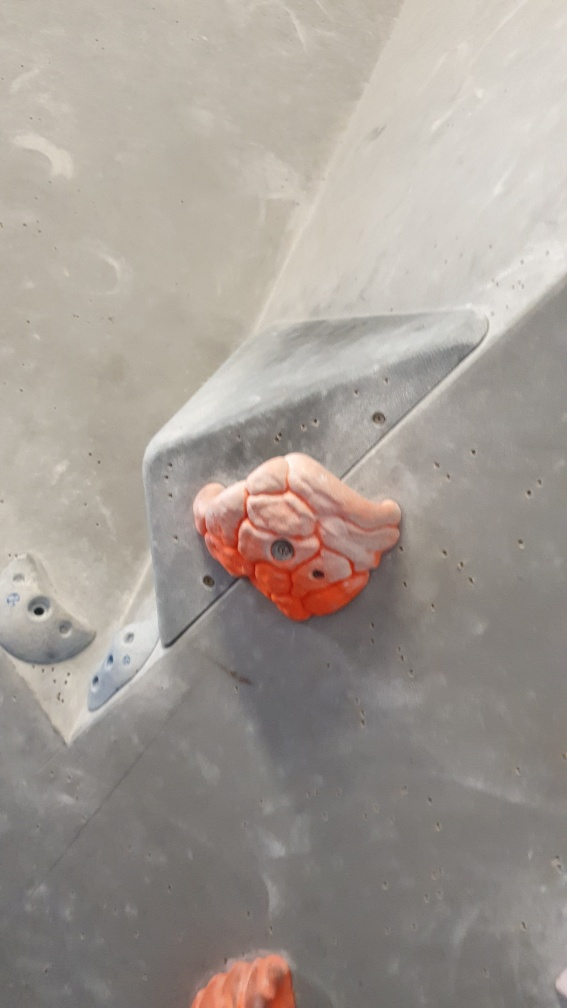Jug: (193, 449, 405, 620)
